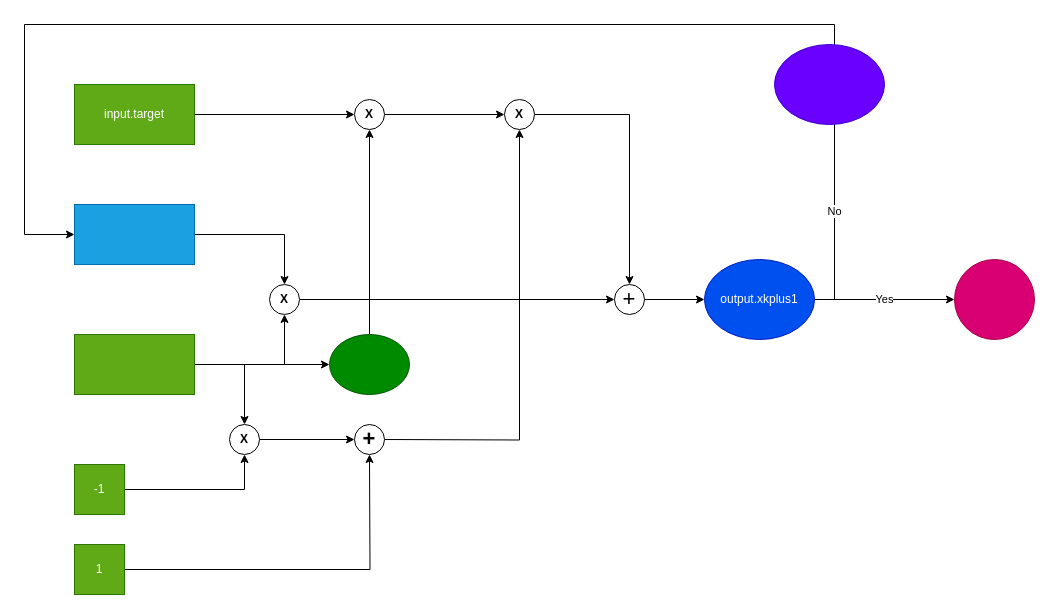
This 1052x612 diagram has some shape labels left out. The shapes that lost their labels are listed below. From the top down, each one's box as (x1, y1, x2, y2) in pixels, then its label:
(774, 44, 884, 124): output.times++
(74, 204, 194, 264): input.xk
(954, 258, 1034, 340): output
(74, 334, 194, 394): input.coeff
(328, 334, 410, 394): pow(-1)
